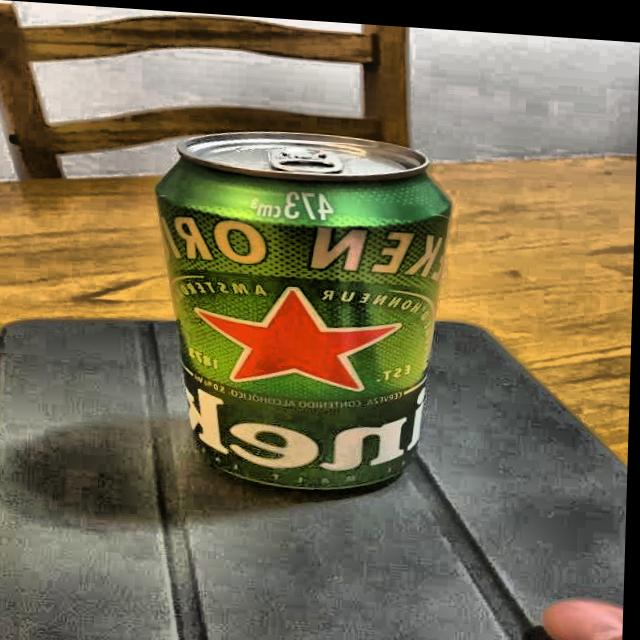can: (147, 109, 456, 507)
